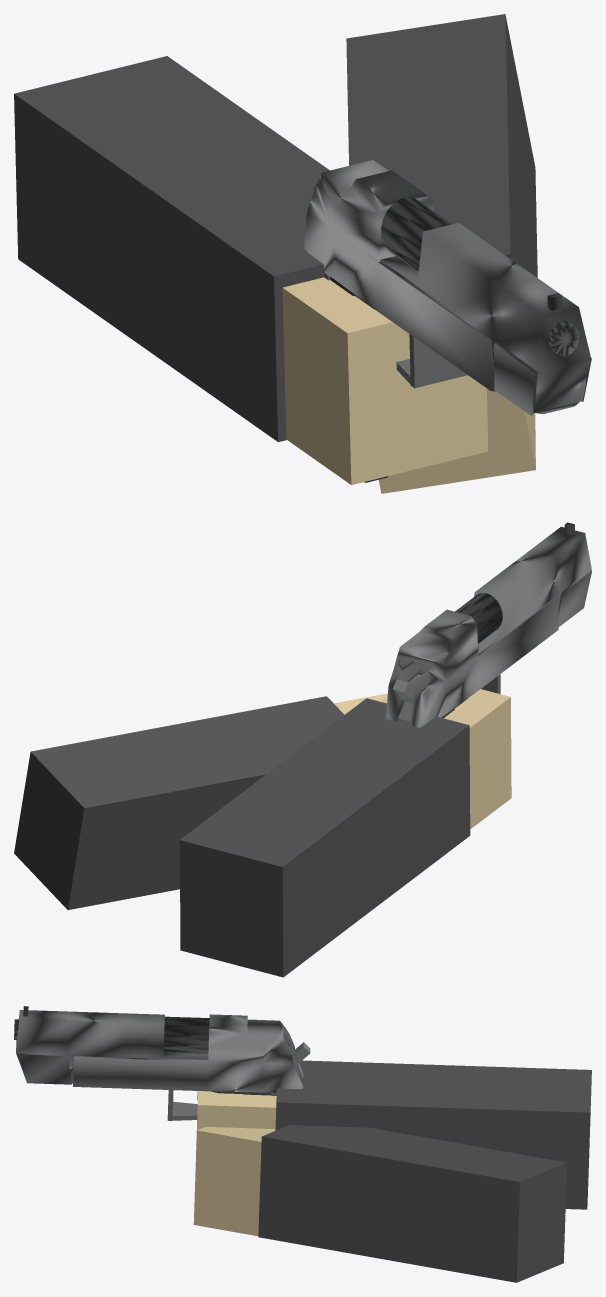
3 views of the same model, one above another, from view 1: azimuth 30°, elevation 25°; view 2: azimuth 150°, elevation 25°; view 3: azimuth 270°, elevation 25° (orthographic). The views are drawn at different scales.
Parts seen in each view (by area): view 1: cuboid, gun, cuboid2, cuboid1, cuboid3; view 2: cuboid, cuboid2, gun, cuboid1; view 3: cuboid2, cuboid, gun, cuboid3, cuboid1.
Part boxes in pixels (x1,y1,x2,y2): cuboid: (14, 56, 329, 441); gun: (304, 160, 591, 482); cuboid2: (346, 14, 537, 277); cuboid1: (282, 277, 488, 484); cuboid3: (378, 388, 535, 493); cuboid: (179, 698, 470, 977); cuboid2: (14, 696, 344, 909); gun: (385, 522, 591, 727); cuboid1: (381, 689, 511, 828); cuboid2: (258, 1125, 566, 1282); cuboid: (275, 1060, 591, 1209); gun: (14, 1006, 310, 1120); cuboid3: (193, 1127, 275, 1236); cuboid1: (194, 1091, 276, 1192).
Size of the model in its own units: 38.64 by 26.49 by 70.77.
